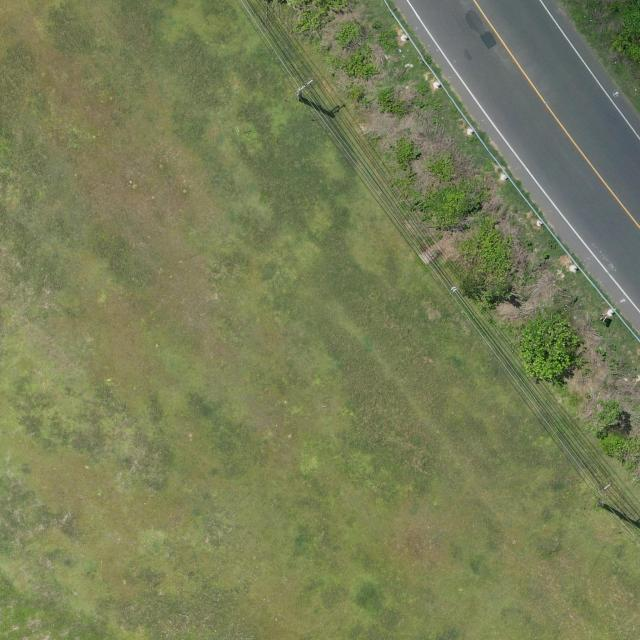Tree: (515, 314, 580, 383)
